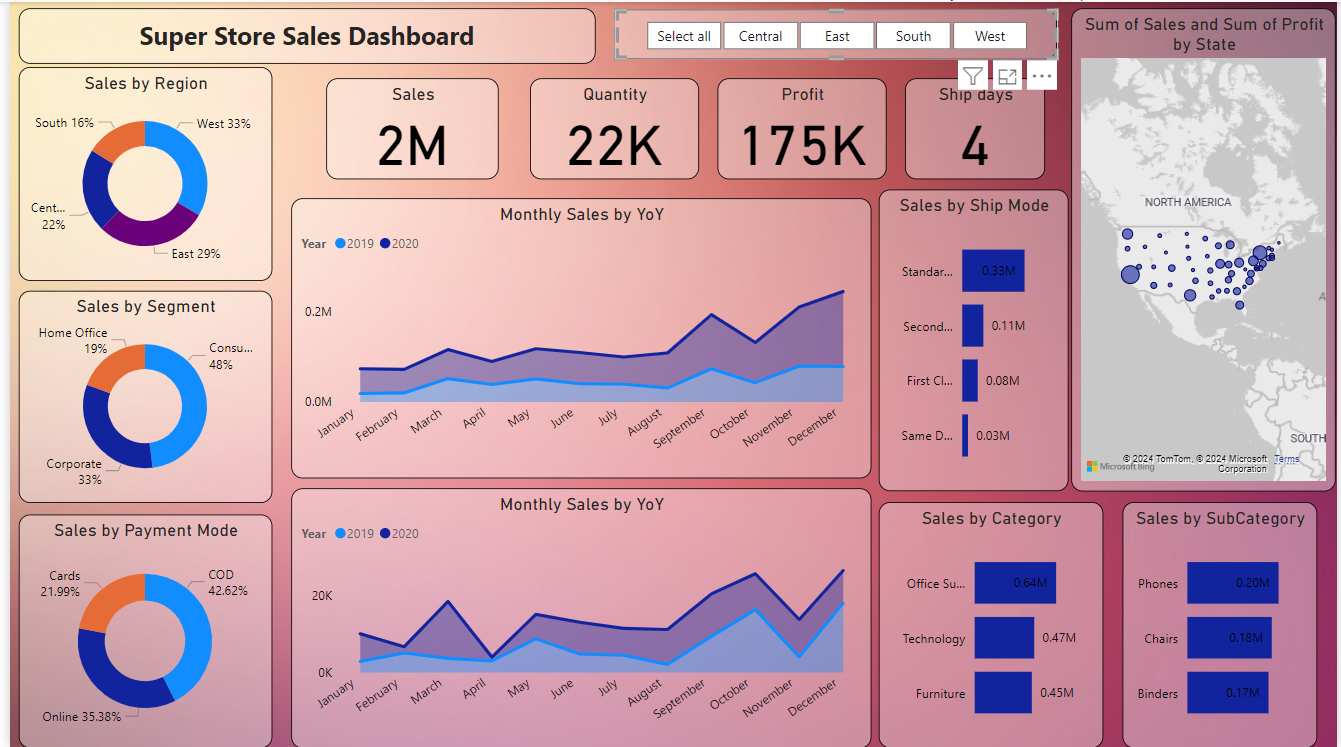

The page's visual inventory and layout, read from the dashboard file:
{"tool":"powerbi","page":{"name":"Page 1","canvas":[1280,720],"ordinal":0},"visuals":[{"type":"clusteredBarChart","title":"Sales by Category","fields":{"Category":["SuperStore_Sales_Dataset.Category"],"Y":["Sum(SuperStore_Sales_Dataset.Sales)"]},"box":[838.9,482.2,216.7,237.8],"z":0},{"type":"clusteredBarChart","title":"Sales by SubCategory","fields":{"Category":["SuperStore_Sales_Dataset.Sub-Category","SuperStore_Sales_Dataset.Category"],"Y":["Sum(SuperStore_Sales_Dataset.Sales)"]},"box":[1073.3,482.2,187.8,237.8],"z":1000},{"type":"clusteredBarChart","title":"Sales by Ship Mode","fields":{"Category":["SuperStore_Sales_Dataset.Ship Mode"],"Y":["Sum(SuperStore_Sales_Dataset.Sales)"]},"box":[838.9,181.1,183.3,291.1],"z":2000},{"type":"stackedAreaChart","title":"Sales by Month","fields":{"Y":["Sum(SuperStore_Sales_Dataset.Sales)"],"Category":["SuperStore_Sales_Dataset.Order Date.Variation.Date Hierarchy.Month","SuperStore_Sales_Dataset.Order Date.Variation.Date Hierarchy.Day"],"Series":["SuperStore_Sales_Dataset.Order Date.Variation.Date Hierarchy.Year"]},"box":[271.1,190,560,270],"z":3000},{"type":"stackedAreaChart","title":"Profit by Month","fields":{"Category":["SuperStore_Sales_Dataset.Order Date.Variation.Date Hierarchy.Month","SuperStore_Sales_Dataset.Order Date.Variation.Date Hierarchy.Day"],"Series":["SuperStore_Sales_Dataset.Order Date.Variation.Date Hierarchy.Year"],"Y":["Sum(SuperStore_Sales_Dataset.Profit)"]},"box":[271.1,468.9,560,251.1],"z":4000},{"type":"map","fields":{"Category":["SuperStore_Sales_Dataset.State"],"Size":["Sum(SuperStore_Sales_Dataset.Sales)"]},"box":[1024.4,5.6,255.6,466.7],"z":5000},{"type":"donutChart","title":"Sales by Segment","fields":{"Category":["SuperStore_Sales_Dataset.Segment"],"Y":["Sum(SuperStore_Sales_Dataset.Sales)"]},"box":[8.9,278.9,244.4,204.4],"z":6000},{"type":"donutChart","title":"Sales by Payment Mode","fields":{"Category":["SuperStore_Sales_Dataset.Payment Mode"],"Y":["Sum(SuperStore_Sales_Dataset.Sales)"]},"box":[8.9,494.4,244.4,225.6],"z":7000},{"type":"textbox","box":[8.9,5.6,556.7,53.3],"z":8000},{"type":"card","title":"Sales","fields":{"Values":["Sum(SuperStore_Sales_Dataset.Sales)"]},"box":[305.6,73.3,166.7,97.8],"z":9000},{"type":"card","title":"Quantity","fields":{"Values":["Sum(SuperStore_Sales_Dataset.Quantity)"]},"box":[502.2,73.3,163.3,97.8],"z":10000},{"type":"card","title":"Ship days","fields":{"Values":["Avg(SuperStore_Sales_Dataset.AvgDelivery)"]},"box":[863.3,73.3,135.6,97.8],"z":11000},{"type":"card","title":"Profit","fields":{"Values":["Sum(SuperStore_Sales_Dataset.Profit)"]},"box":[683.3,73.3,163.3,97.8],"z":12000},{"type":"donutChart","title":"Sales by Region","fields":{"Category":["SuperStore_Sales_Dataset.Region","SuperStore_Sales_Dataset.Segment"],"Y":["Sum(SuperStore_Sales_Dataset.Sales)"]},"box":[8.9,63.3,244.4,206.7],"z":13000},{"type":"slicer","fields":{"Values":["SuperStore_Sales_Dataset.Region"]},"box":[584.4,7.8,426.7,47.8],"z":14000}]}

Visuals, with their boxes in screenshot pixels (x1, y1, x2, y2), scaled from the page's 1280x720 canvas onto the 1341x747 screenshot:
"Sales by Category" clusteredBarChart: box(879, 500, 1106, 746)
"Sales by SubCategory" clusteredBarChart: box(1124, 500, 1321, 746)
"Sales by Ship Mode" clusteredBarChart: box(879, 188, 1071, 490)
"Sales by Month" stackedAreaChart: box(284, 197, 871, 477)
"Profit by Month" stackedAreaChart: box(284, 486, 871, 746)
map - SuperStore_Sales_Dataset.State x Sum(SuperStore_Sales_Dataset.Sales): box(1073, 6, 1340, 490)
"Sales by Segment" donutChart: box(9, 289, 265, 501)
"Sales by Payment Mode" donutChart: box(9, 513, 265, 746)
textbox: box(9, 6, 593, 61)
"Sales" card: box(320, 76, 495, 178)
"Quantity" card: box(526, 76, 697, 178)
"Ship days" card: box(904, 76, 1047, 178)
"Profit" card: box(716, 76, 887, 178)
"Sales by Region" donutChart: box(9, 66, 265, 280)
slicer - SuperStore_Sales_Dataset.Region: box(612, 8, 1059, 58)
